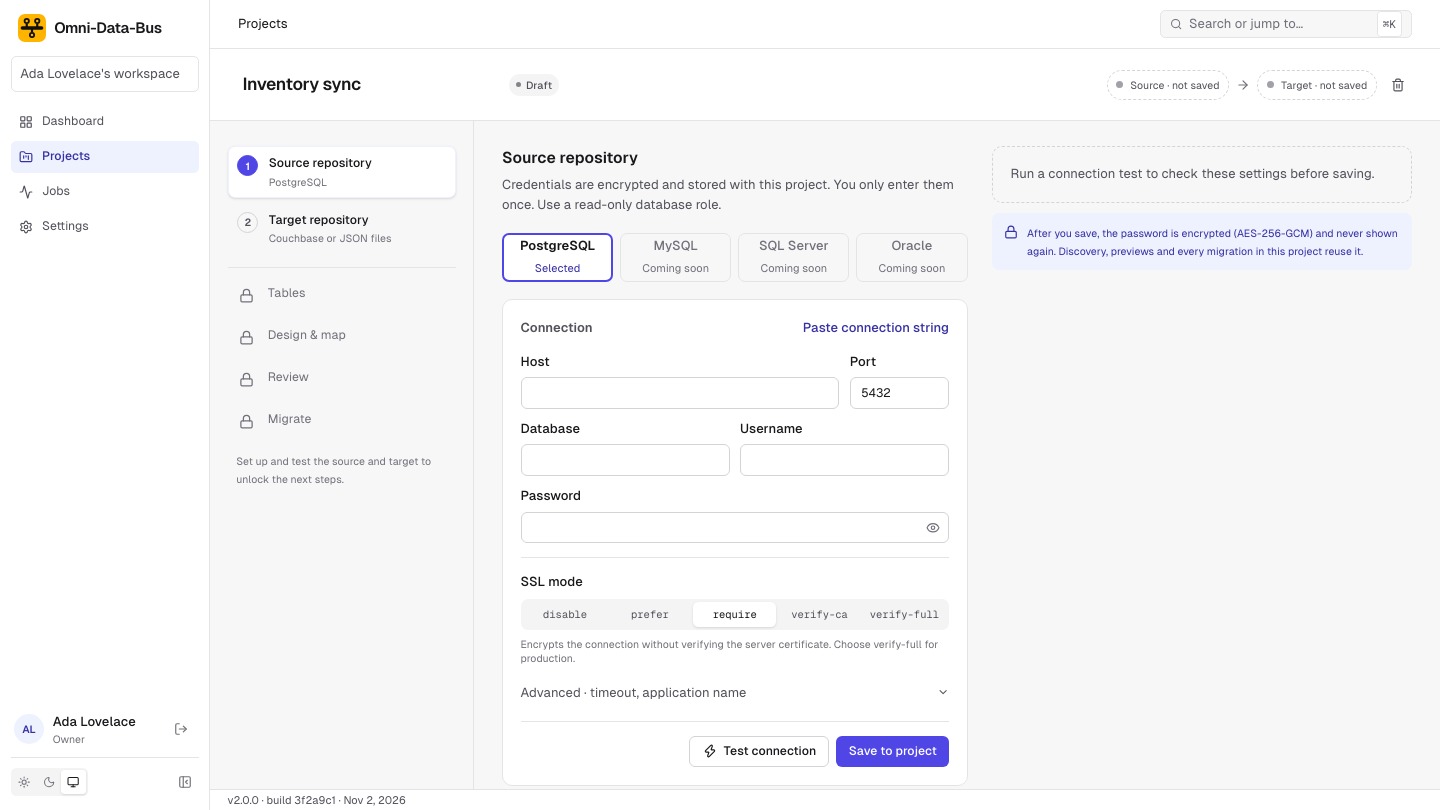
Scenario: Source step › AC2: pasting a connection string fills the form (password included, URI not kept)
Click the button "Paste connection string" at (876, 328), box x1=803 y1=318 x2=949 y2=338
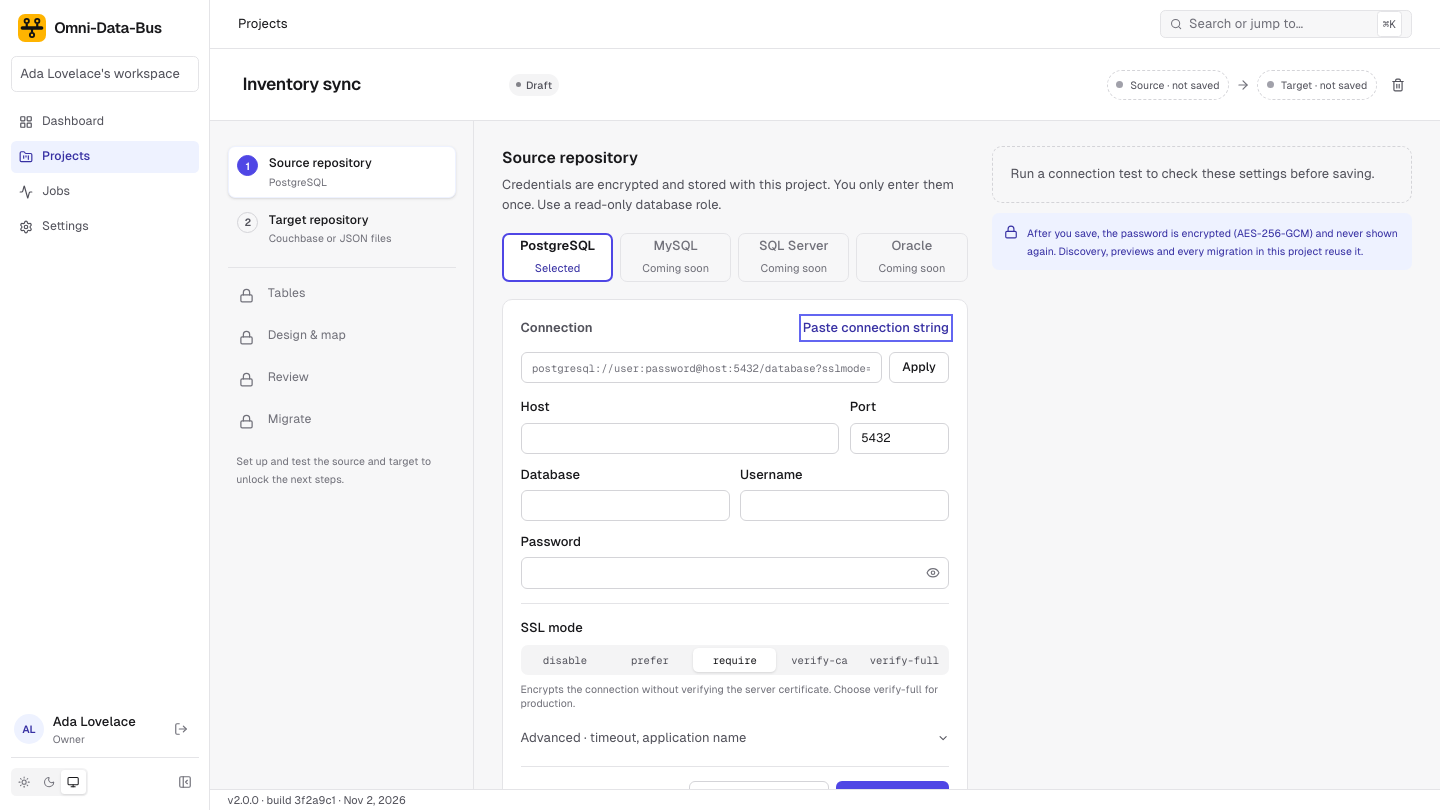
Type "postgresql://app:s3cr%40t@db.example.com:6543/shop?sslmode=verify-full" into the password field named "Paste connection string" at (701, 368), box x1=520 y1=352 x2=882 y2=383
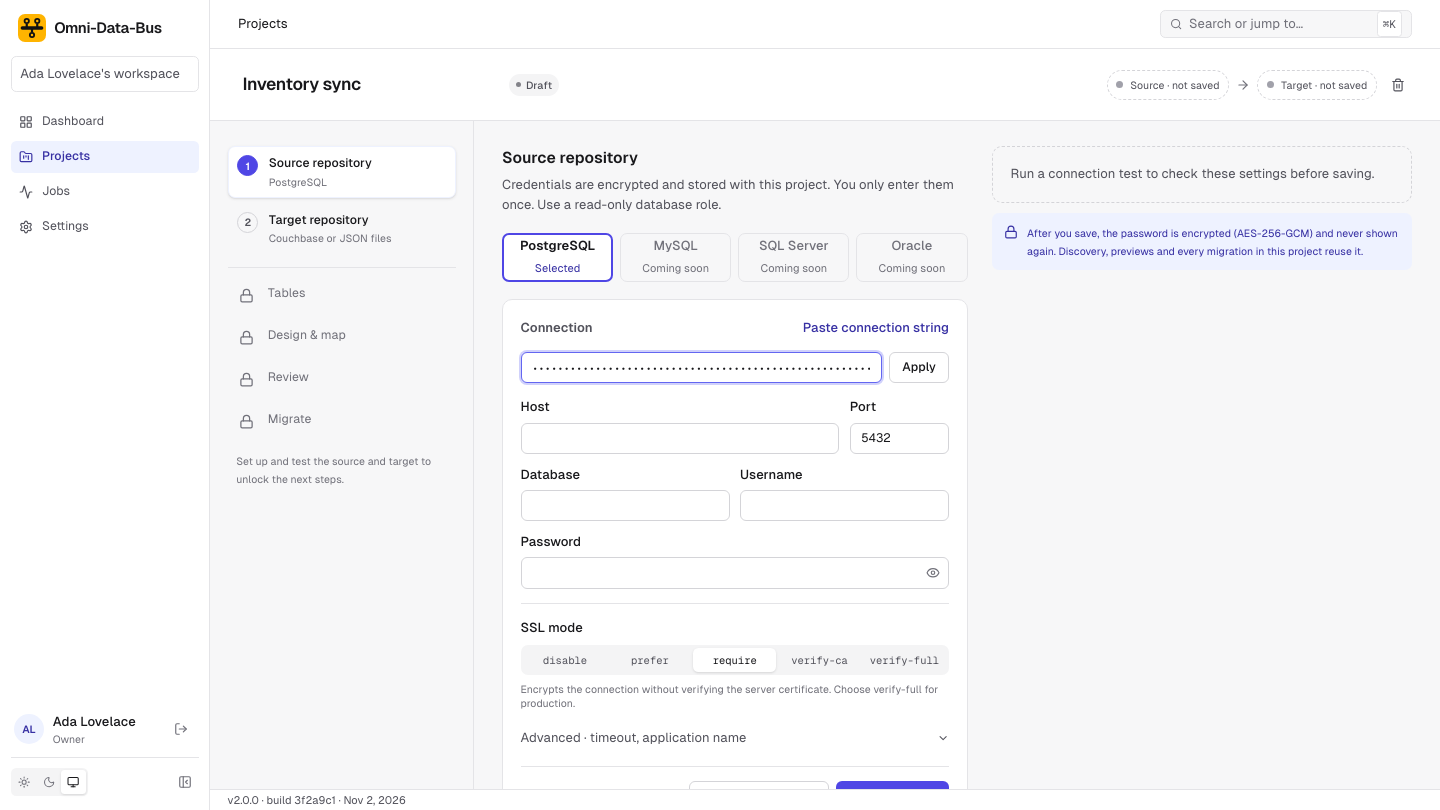
Click the button "Apply" at (919, 368), box x1=889 y1=352 x2=949 y2=383
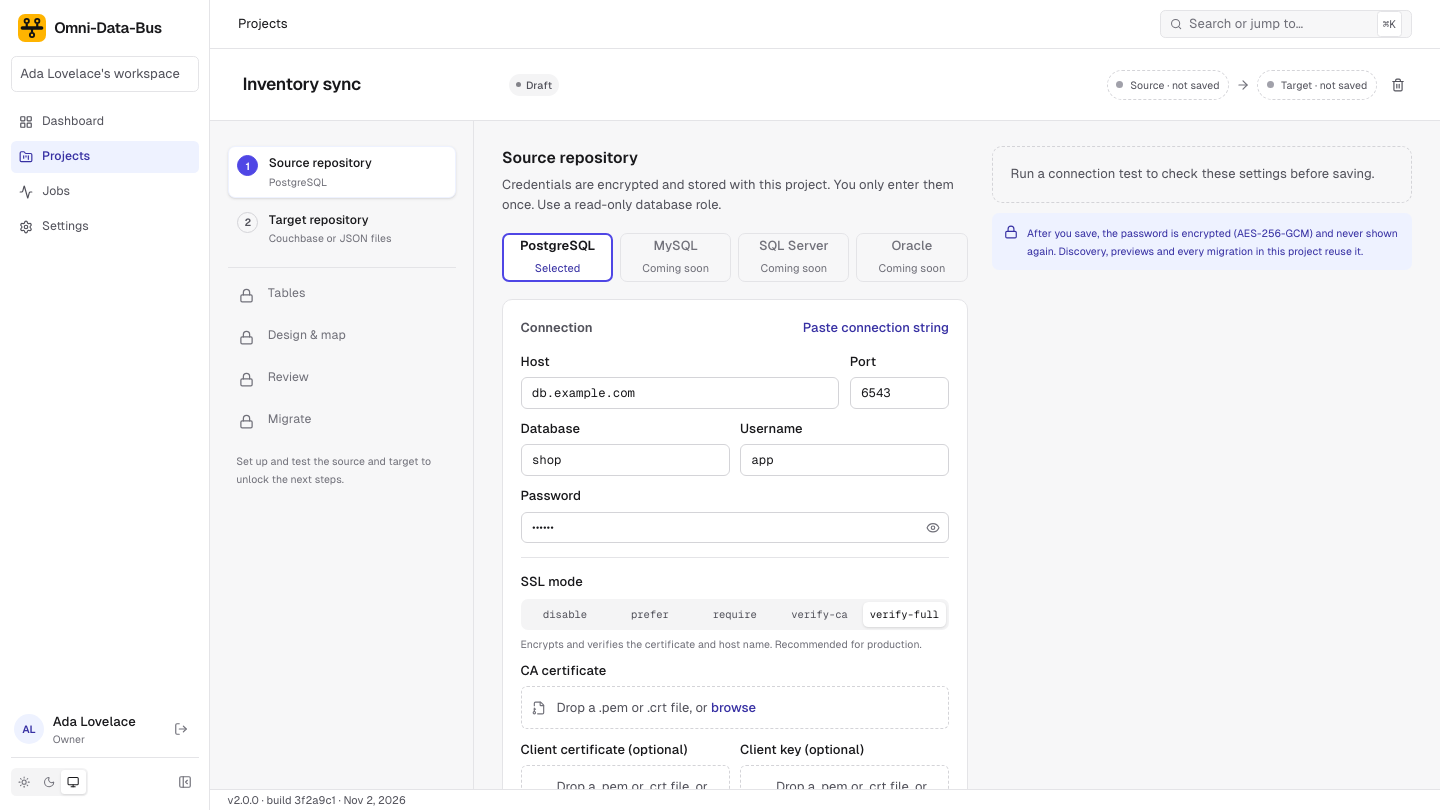
Expected: the field labelled "Host" holds "db.example.com", x1=520 y1=377 x2=839 y2=408
Expected: the field labelled "Port" holds "6543", x1=850 y1=377 x2=949 y2=408
Expected: the password field labelled "Password" holds "s3cr@t", x1=520 y1=512 x2=949 y2=543
